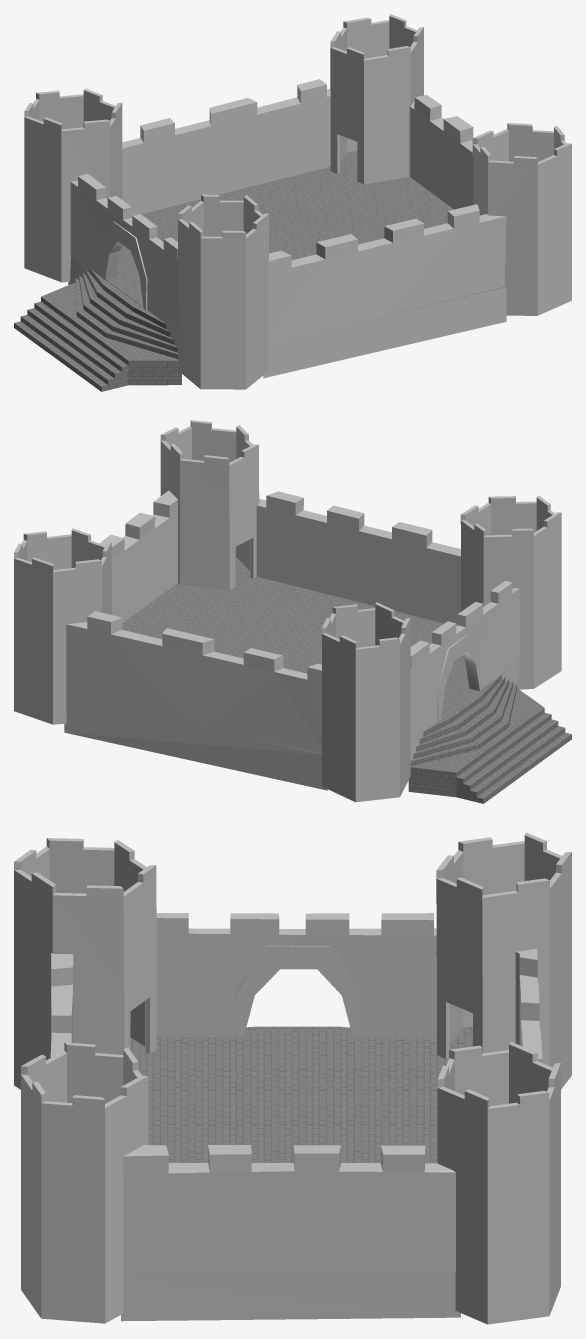
The model's file is SM_Fort.fbx.
The picture shows the model from 3 angles, top to bottom: view 1: azimuth 30°, elevation 25°; view 2: azimuth 150°, elevation 25°; view 3: azimuth 270°, elevation 25°; orthographic projection. The views are drawn at different scales.
Parts seen in each view (by area): view 1: Fort__1_; view 2: Fort__1_; view 3: Fort__1_.
Boxes of the visible parts, x1,y1,x2,y2 form: Fort__1_: (14, 14, 571, 391); Fort__1_: (14, 420, 571, 803); Fort__1_: (14, 832, 571, 1324).
Bounding box in the file's own units: 2569 × 1014 × 2013.
